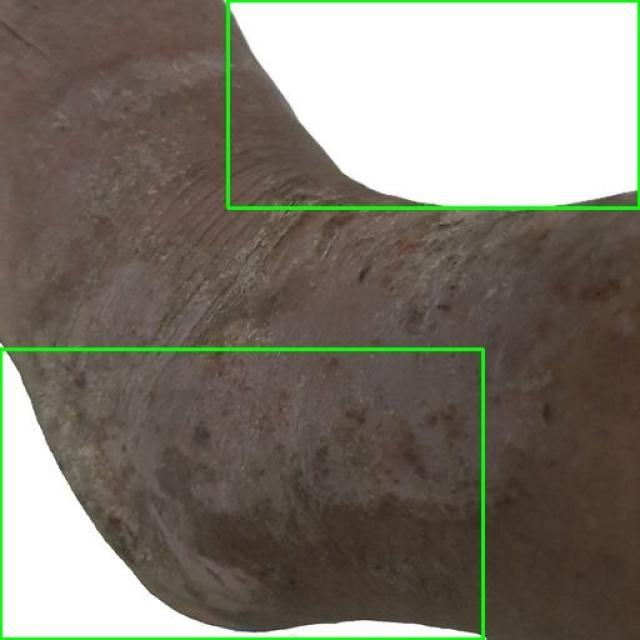Eczema: (0, 349, 482, 639), (228, 0, 639, 208)
